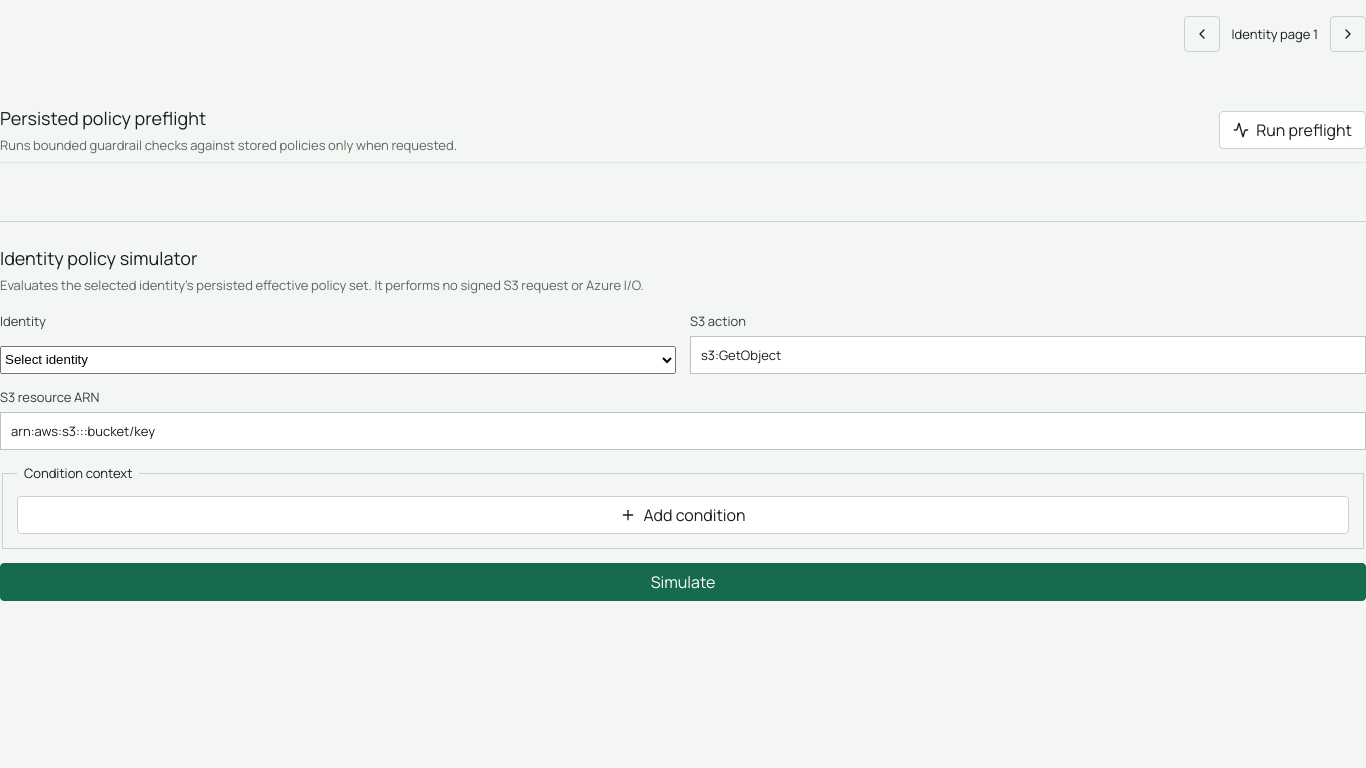
Scenario: PolicyDiagnostics › removes condition input and renders a deny without an optional statement match
Select "SIMULATOR_KEY" in the dropdown labelled "Identity" at (338,360), box [0, 346, 676, 374]
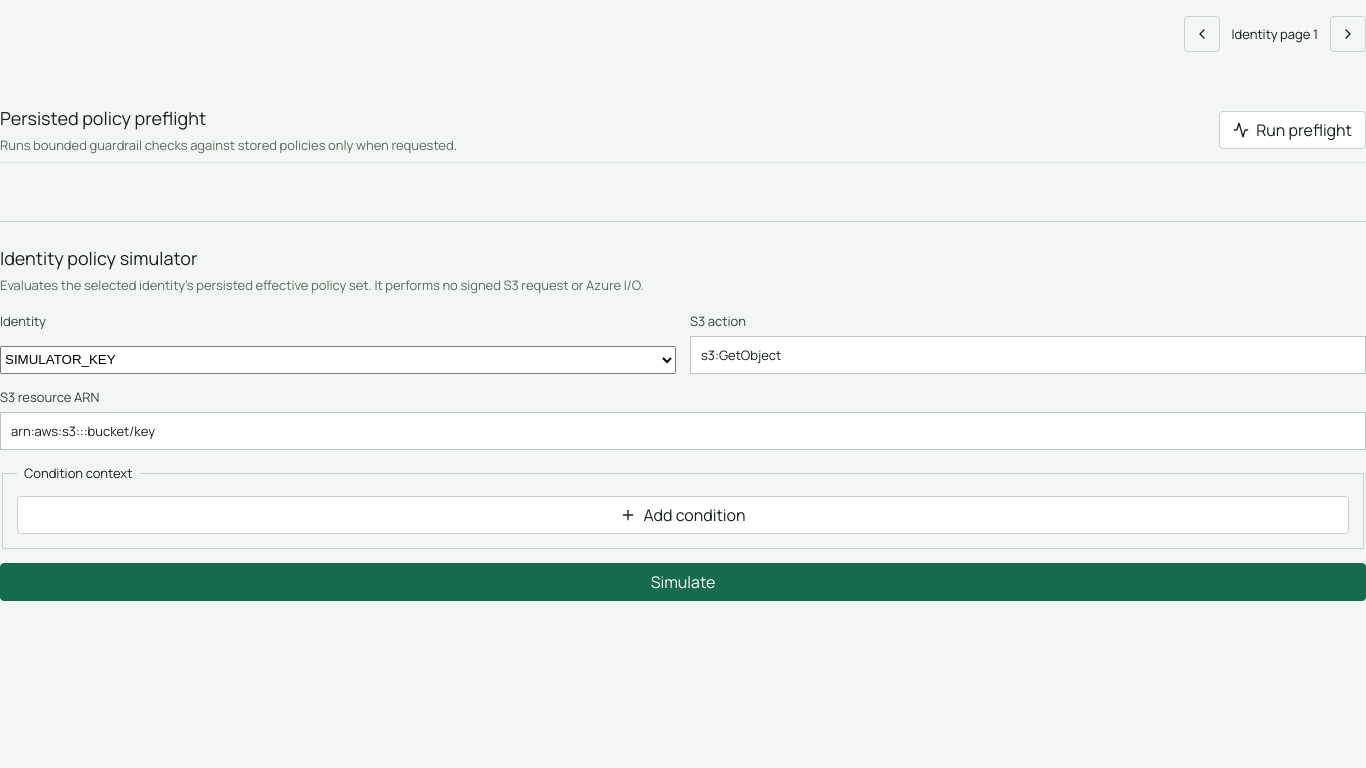
Click the button "Add condition".
click(683, 515)  # box [17, 496, 1349, 534]
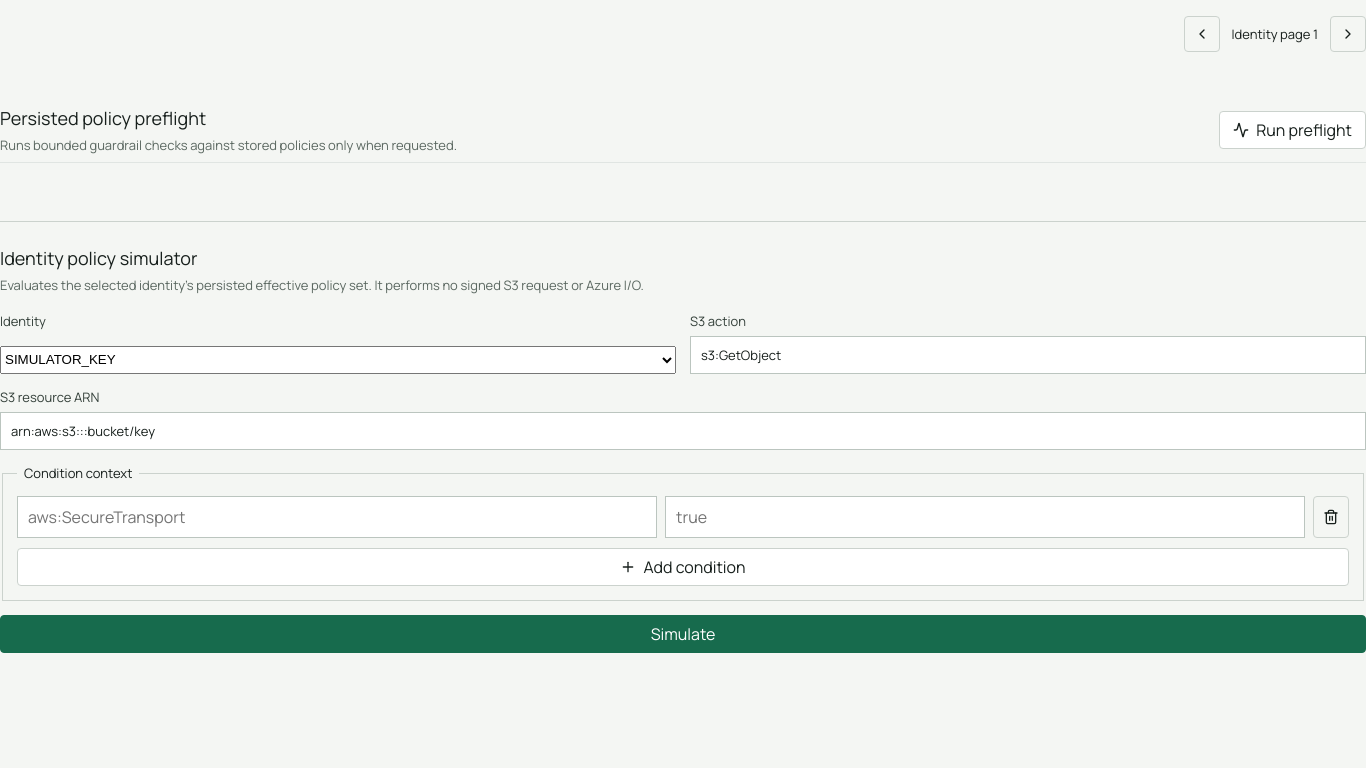
Now the field named "Condition key" is shown, box [17, 496, 657, 538]
Click the button named "Remove condition".
click(1331, 517)  # box [1313, 496, 1349, 538]
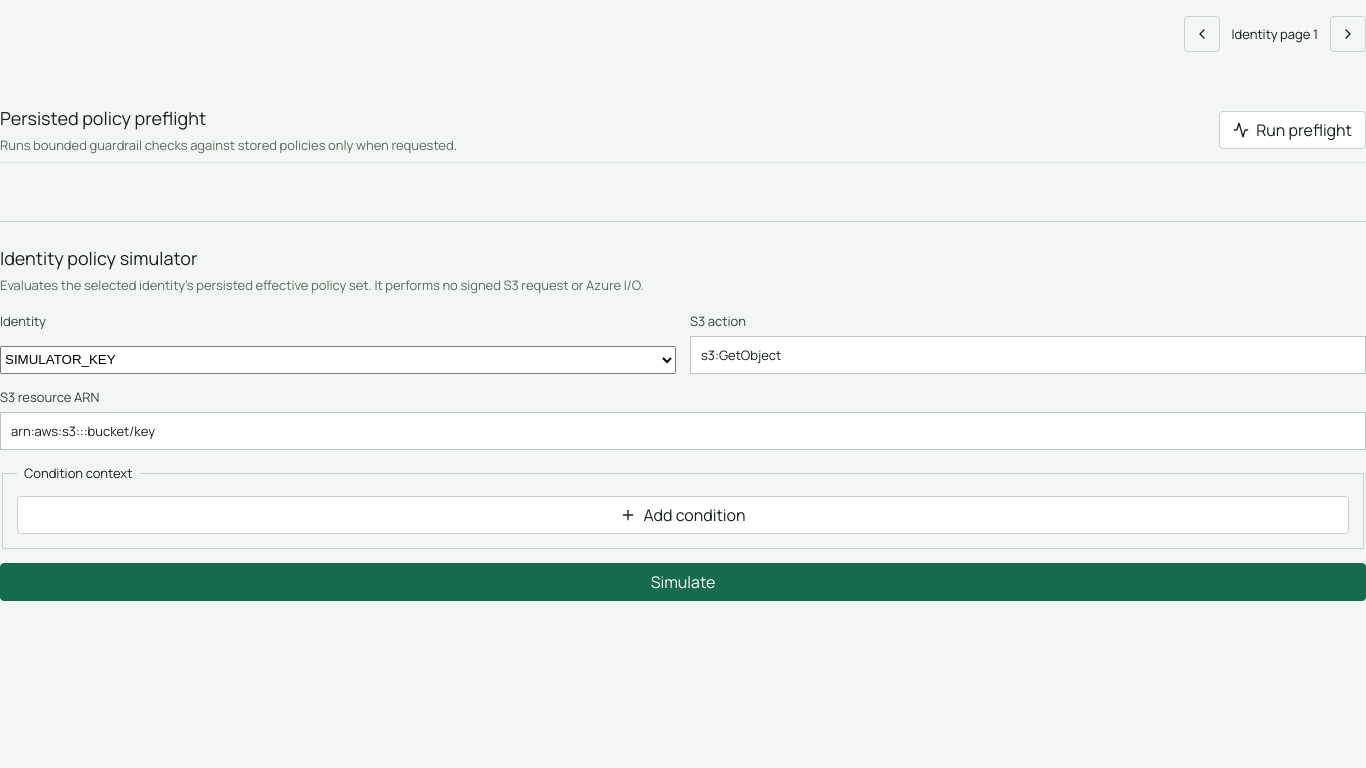
Submit the form "Simulate", box [0, 312, 1365, 601]
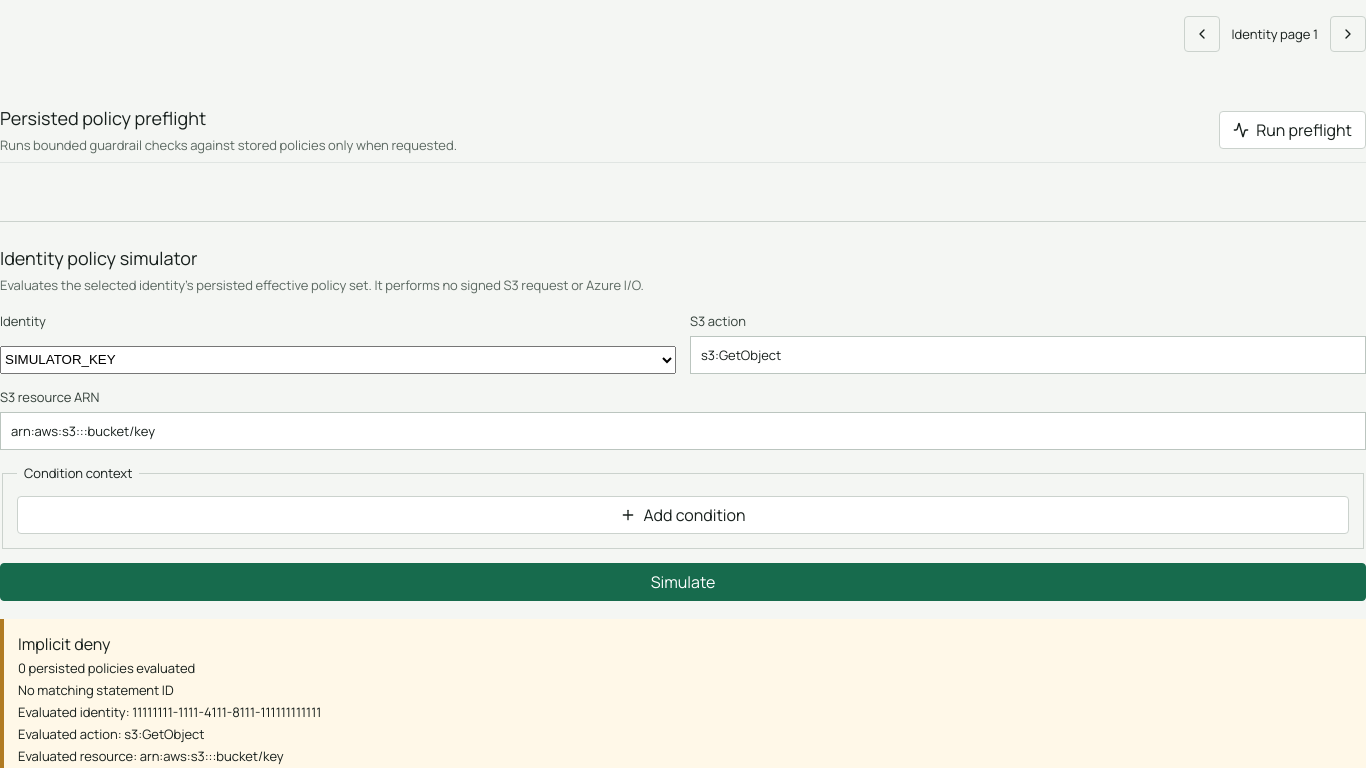
Now the text "Implicit deny" is shown, box [18, 633, 110, 655]
Now the text "No matching statement ID" is shown, box [18, 681, 174, 699]
Now the text "0 persisted policies evaluated" is shown, box [18, 659, 195, 677]
